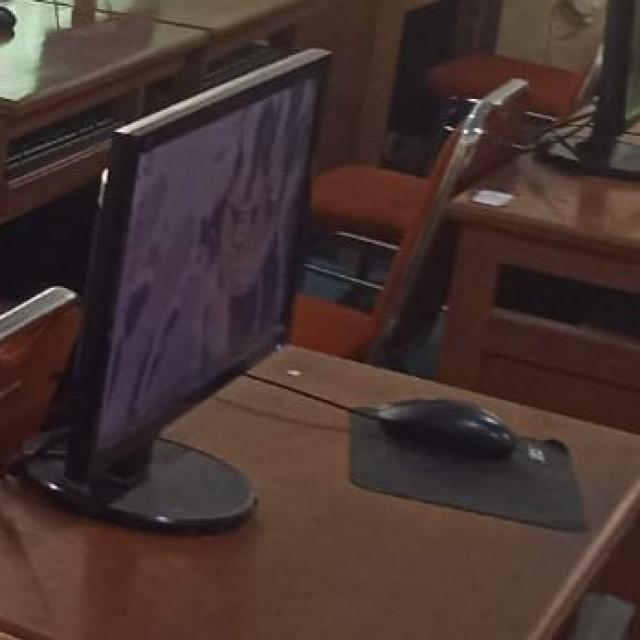onscreen: (71, 51, 327, 482)
